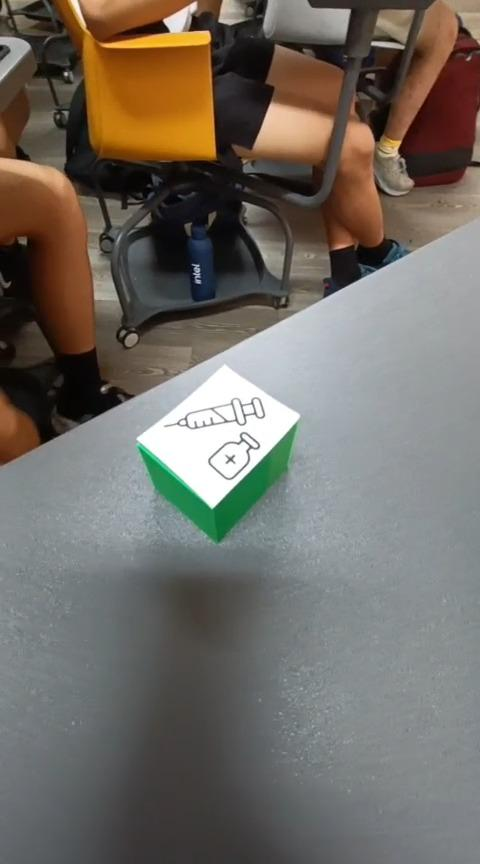antiseptic cream: (135, 362, 300, 544)
